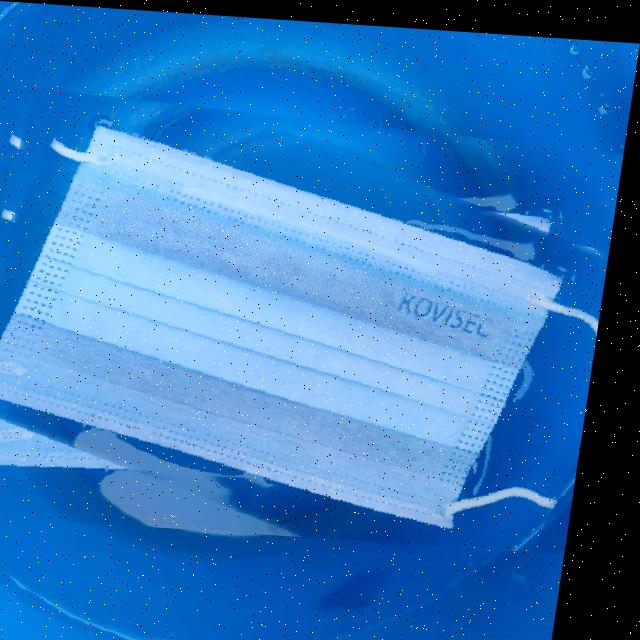litter: (0, 84, 630, 545)
